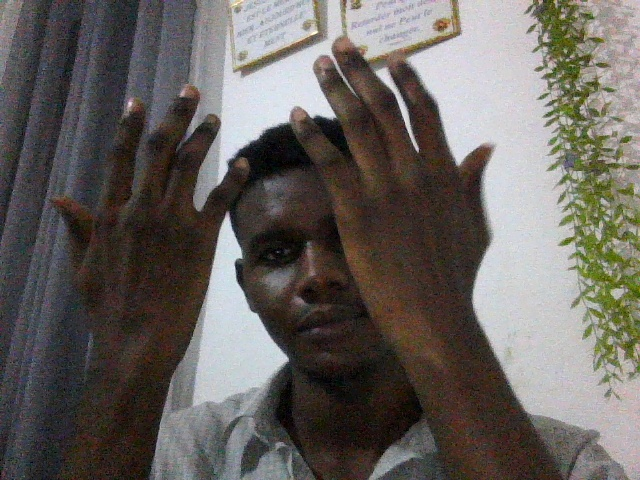hand: (289, 38, 528, 383)
